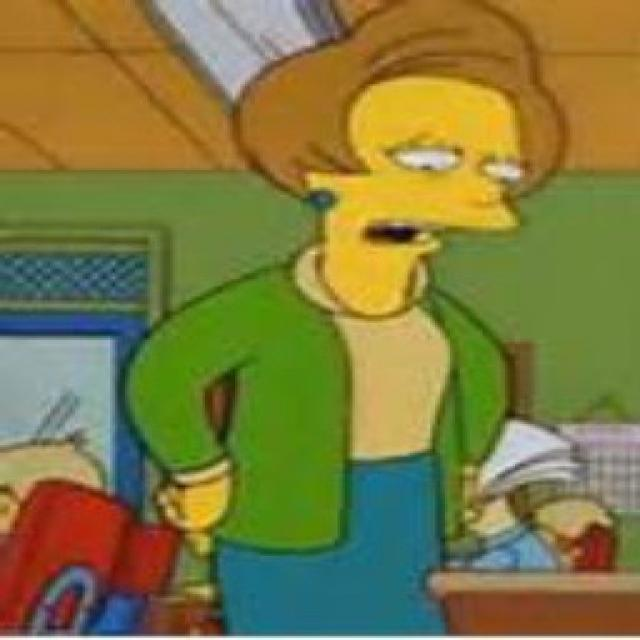Edna Krappel: (228, 1, 568, 324)
